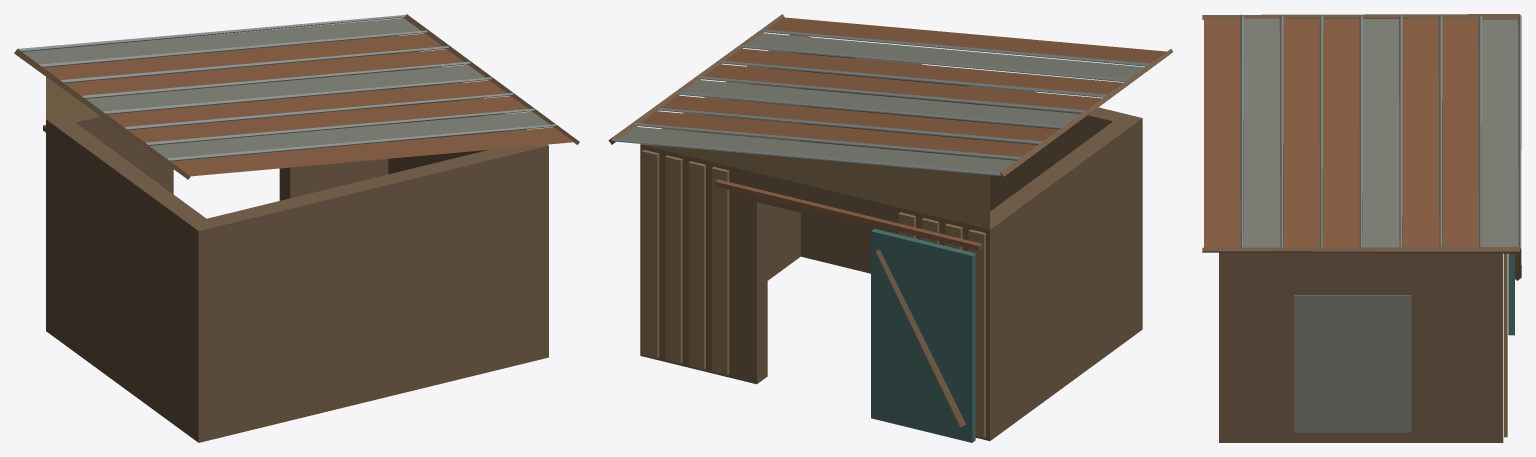
File: shed_a.glb
The picture shows the model from 3 angles, left to right: view 1: azimuth 30°, elevation 25°; view 2: azimuth 150°, elevation 25°; view 3: azimuth 270°, elevation 25°; orthographic projection. The views are drawn at different scales.
Visible parts, largest first — view 1: shed_a_visual; view 2: shed_a_visual; view 3: shed_a_visual.
Boxes of the visible parts, x1,y1,x2,y2 form: shed_a_visual: (14,14,579,442); shed_a_visual: (608,14,1173,442); shed_a_visual: (1202,14,1521,442).
Size of what is drawn, in the model's own units: 5.09 by 3.45 by 3.82.
